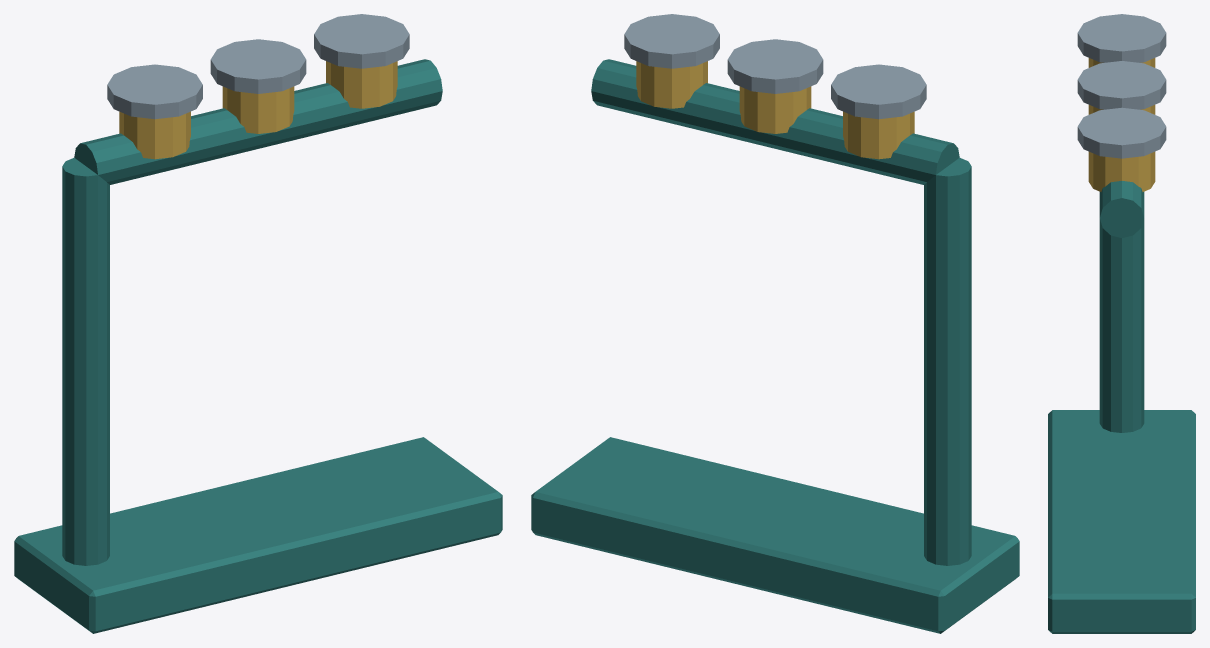
The model's file is nozzles.glb.
3 views of the same model, side by side, from view 1: azimuth 30°, elevation 25°; view 2: azimuth 150°, elevation 25°; view 3: azimuth 270°, elevation 25° (orthographic). The views are drawn at different scales.
Visible parts, largest first — view 1: Base, Target1, Target2, Target0; view 2: Base, Target1, Target2, Target0; view 3: Base, Target2, Target0, Target1.
Boxes of the visible parts, x1=… form: Base: x1=14, y1=59, x2=502, y2=633; Target1: x1=210, y1=39, x2=306, y2=133; Target2: x1=314, y1=14, x2=409, y2=108; Target0: x1=107, y1=64, x2=202, y2=159; Base: x1=531, y1=59, x2=1019, y2=633; Target1: x1=727, y1=39, x2=823, y2=133; Target2: x1=624, y1=14, x2=719, y2=108; Target0: x1=831, y1=64, x2=926, y2=159; Base: x1=1048, y1=181, x2=1195, y2=633; Target2: x1=1077, y1=107, x2=1166, y2=191; Target0: x1=1077, y1=14, x2=1166, y2=67; Target1: x1=1077, y1=61, x2=1166, y2=114.
Size of the model in its own units: 1.2 by 1.38 by 0.4.
